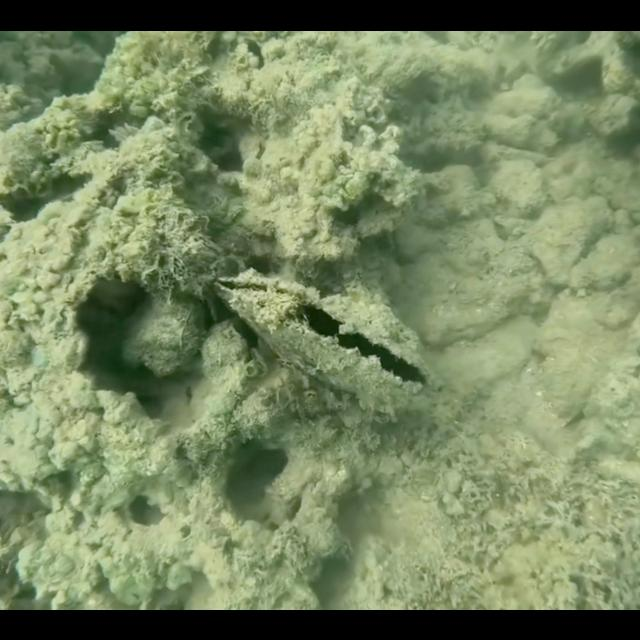Oyster-Open: (212, 266, 436, 414)
